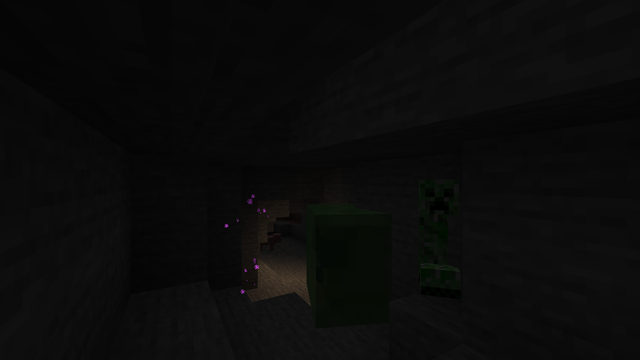cochons: (260, 234, 275, 252)
creepers: (407, 174, 457, 298)
slimes: (292, 200, 389, 338)
